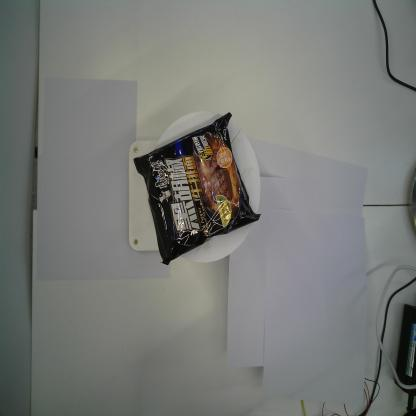Instant Noodles: (133, 111, 262, 268)
